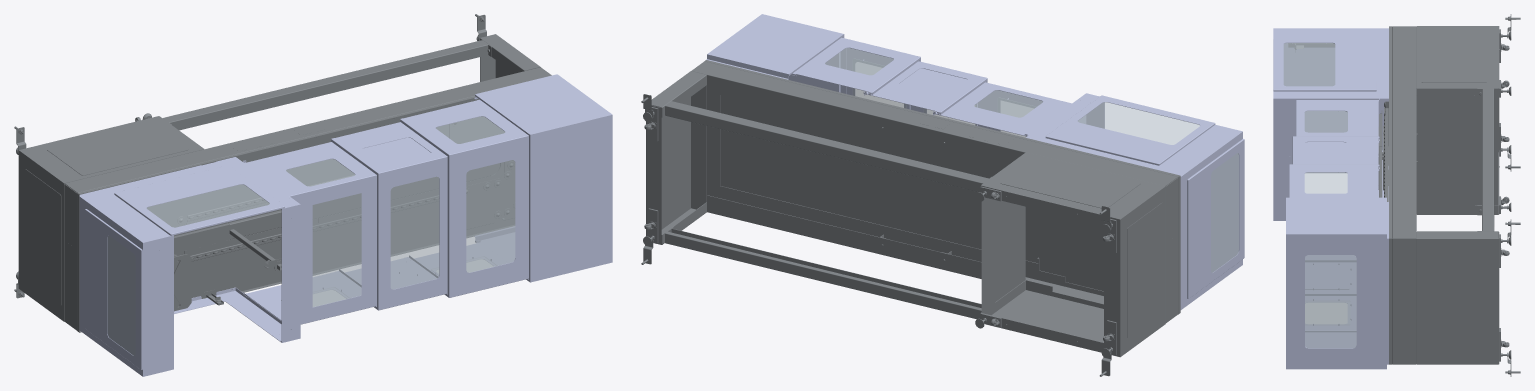
The model's file is flexmulti-feeder.glb.
3 renders of one model, left to right at view 1: azimuth 30°, elevation 25°; view 2: azimuth 150°, elevation 25°; view 3: azimuth 270°, elevation 25°, orthographic. The views are drawn at different scales.
Visible parts, largest first — view 1: body_mesh, T094702710_DEF_12^T094702710_DEF_WF14L-280-2_AND_COVER(2)_WF, T094702710_DEF_6^T094702710_DEF_WF14L-280-2_AND_COVER(2)_WF1, T094702710_DEF_4^T094702710_DEF_WF14L-280-2_AND_COVER(2)_WF1, T094702710_DEF_24^T094702710_DEF_WF14L-280-2_AND_COVER(2)_WF, T094702710_DEF_20^T094702710_DEF_WF14L-280-2_AND_COVER(2)_WF, T094702710_DEF_7^T094702710_DEF_WF14L-280-2_AND_COVER(2)_WF1, T094702710_DEF_23^T094702710_DEF_WF14L-280-2_AND_COVER(2)_WF, T094702710_DEF_18^T094702710_DEF_WF14L-280-2_AND_COVER(2)_WF, T094702710_DEF_2^T094702710_DEF_WF14L-280-2_AND_COVER(2)_WF1, T094702710_DEF_11^T094702710_DEF_WF14L-280-2_AND_COVER(2)_WF, T094702710_DEF_14^T094702710_DEF_WF14L-280-2_AND_COVER(2)_WF (+3 smaller); view 2: body_mesh, T094702710_DEF_12^T094702710_DEF_WF14L-280-2_AND_COVER(2)_WF, T094702710_DEF_6^T094702710_DEF_WF14L-280-2_AND_COVER(2)_WF1, T094702710_DEF_2^T094702710_DEF_WF14L-280-2_AND_COVER(2)_WF1, T094702710_DEF_4^T094702710_DEF_WF14L-280-2_AND_COVER(2)_WF1, T094702710_DEF_24^T094702710_DEF_WF14L-280-2_AND_COVER(2)_WF, T094702710_DEF_20^T094702710_DEF_WF14L-280-2_AND_COVER(2)_WF, T094702710_DEF_11^T094702710_DEF_WF14L-280-2_AND_COVER(2)_WF, T094702710_DEF_14^T094702710_DEF_WF14L-280-2_AND_COVER(2)_WF, T094702710_DEF_21^T094702710_DEF_WF14L-280-2_AND_COVER(2)_WF, T094702710_DEF_8^T094702710_DEF_WF14L-280-2_AND_COVER(2)_WF1, T094702710_DEF_18^T094702710_DEF_WF14L-280-2_AND_COVER(2)_WF (+1 smaller); view 3: body_mesh, T094702710_DEF_6^T094702710_DEF_WF14L-280-2_AND_COVER(2)_WF1, T094702710_DEF_12^T094702710_DEF_WF14L-280-2_AND_COVER(2)_WF, T094702710_DEF_3^T094702710_DEF_WF14L-280-2_AND_COVER(2)_WF1, T094702710_DEF_20^T094702710_DEF_WF14L-280-2_AND_COVER(2)_WF, T094702710_DEF_2^T094702710_DEF_WF14L-280-2_AND_COVER(2)_WF1, T094702710_DEF_4^T094702710_DEF_WF14L-280-2_AND_COVER(2)_WF1, T094702710_DEF_24^T094702710_DEF_WF14L-280-2_AND_COVER(2)_WF, T094702710_DEF_14^T094702710_DEF_WF14L-280-2_AND_COVER(2)_WF, T094702710_DEF_19^T094702710_DEF_WF14L-280-2_AND_COVER(2)_WF, T094702710_DEF_8^T094702710_DEF_WF14L-280-2_AND_COVER(2)_WF1, T094702710_DEF_21^T094702710_DEF_WF14L-280-2_AND_COVER(2)_WF.
Part boxes in pixels (x1=…): body_mesh: x1=14, y1=14, x2=551, y2=332; T094702710_DEF_12^T094702710_DEF_WF14L-280-2_AND_COVER(2)_WF: x1=79, y1=157, x2=300, y2=376; T094702710_DEF_6^T094702710_DEF_WF14L-280-2_AND_COVER(2)_WF1: x1=474, y1=74, x2=612, y2=282; T094702710_DEF_4^T094702710_DEF_WF14L-280-2_AND_COVER(2)_WF1: x1=400, y1=99, x2=528, y2=297; T094702710_DEF_24^T094702710_DEF_WF14L-280-2_AND_COVER(2)_WF: x1=243, y1=142, x2=376, y2=324; T094702710_DEF_20^T094702710_DEF_WF14L-280-2_AND_COVER(2)_WF: x1=331, y1=122, x2=447, y2=310; T094702710_DEF_7^T094702710_DEF_WF14L-280-2_AND_COVER(2)_WF1: x1=312, y1=193, x2=361, y2=306; T094702710_DEF_23^T094702710_DEF_WF14L-280-2_AND_COVER(2)_WF: x1=390, y1=176, x2=439, y2=289; T094702710_DEF_18^T094702710_DEF_WF14L-280-2_AND_COVER(2)_WF: x1=466, y1=160, x2=515, y2=272; T094702710_DEF_2^T094702710_DEF_WF14L-280-2_AND_COVER(2)_WF1: x1=114, y1=165, x2=284, y2=235; T094702710_DEF_11^T094702710_DEF_WF14L-280-2_AND_COVER(2)_WF: x1=107, y1=236, x2=135, y2=355; T094702710_DEF_14^T094702710_DEF_WF14L-280-2_AND_COVER(2)_WF: x1=147, y1=184, x2=269, y2=227; body_mesh: x1=641, y1=60, x2=1180, y2=376; T094702710_DEF_12^T094702710_DEF_WF14L-280-2_AND_COVER(2)_WF: x1=1026, y1=93, x2=1244, y2=309; T094702710_DEF_6^T094702710_DEF_WF14L-280-2_AND_COVER(2)_WF1: x1=706, y1=14, x2=844, y2=91; T094702710_DEF_2^T094702710_DEF_WF14L-280-2_AND_COVER(2)_WF1: x1=1045, y1=95, x2=1215, y2=165; T094702710_DEF_4^T094702710_DEF_WF14L-280-2_AND_COVER(2)_WF1: x1=792, y1=37, x2=920, y2=108; T094702710_DEF_24^T094702710_DEF_WF14L-280-2_AND_COVER(2)_WF: x1=933, y1=82, x2=1071, y2=136; T094702710_DEF_20^T094702710_DEF_WF14L-280-2_AND_COVER(2)_WF: x1=864, y1=61, x2=987, y2=125; T094702710_DEF_11^T094702710_DEF_WF14L-280-2_AND_COVER(2)_WF: x1=1211, y1=153, x2=1238, y2=272; T094702710_DEF_14^T094702710_DEF_WF14L-280-2_AND_COVER(2)_WF: x1=1078, y1=102, x2=1199, y2=144; T094702710_DEF_21^T094702710_DEF_WF14L-280-2_AND_COVER(2)_WF: x1=974, y1=90, x2=1042, y2=117; T094702710_DEF_8^T094702710_DEF_WF14L-280-2_AND_COVER(2)_WF1: x1=825, y1=48, x2=893, y2=75; T094702710_DEF_18^T094702710_DEF_WF14L-280-2_AND_COVER(2)_WF: x1=852, y1=59, x2=906, y2=108; body_mesh: x1=1288, y1=14, x2=1520, y2=376; T094702710_DEF_6^T094702710_DEF_WF14L-280-2_AND_COVER(2)_WF1: x1=1286, y1=197, x2=1388, y2=369; T094702710_DEF_12^T094702710_DEF_WF14L-280-2_AND_COVER(2)_WF: x1=1273, y1=28, x2=1388, y2=220; T094702710_DEF_3^T094702710_DEF_WF14L-280-2_AND_COVER(2)_WF1: x1=1305, y1=255, x2=1356, y2=348; T094702710_DEF_20^T094702710_DEF_WF14L-280-2_AND_COVER(2)_WF: x1=1292, y1=136, x2=1378, y2=295; T094702710_DEF_2^T094702710_DEF_WF14L-280-2_AND_COVER(2)_WF1: x1=1273, y1=39, x2=1376, y2=91; T094702710_DEF_4^T094702710_DEF_WF14L-280-2_AND_COVER(2)_WF1: x1=1289, y1=164, x2=1379, y2=331; T094702710_DEF_24^T094702710_DEF_WF14L-280-2_AND_COVER(2)_WF: x1=1296, y1=98, x2=1379, y2=261; T094702710_DEF_14^T094702710_DEF_WF14L-280-2_AND_COVER(2)_WF: x1=1283, y1=43, x2=1335, y2=86; T094702710_DEF_19^T094702710_DEF_WF14L-280-2_AND_COVER(2)_WF: x1=1305, y1=301, x2=1349, y2=324; T094702710_DEF_8^T094702710_DEF_WF14L-280-2_AND_COVER(2)_WF1: x1=1304, y1=172, x2=1347, y2=193; T094702710_DEF_21^T094702710_DEF_WF14L-280-2_AND_COVER(2)_WF: x1=1304, y1=111, x2=1347, y2=132.
Bounding box in the file's own units: 2928 × 992 × 1437.
